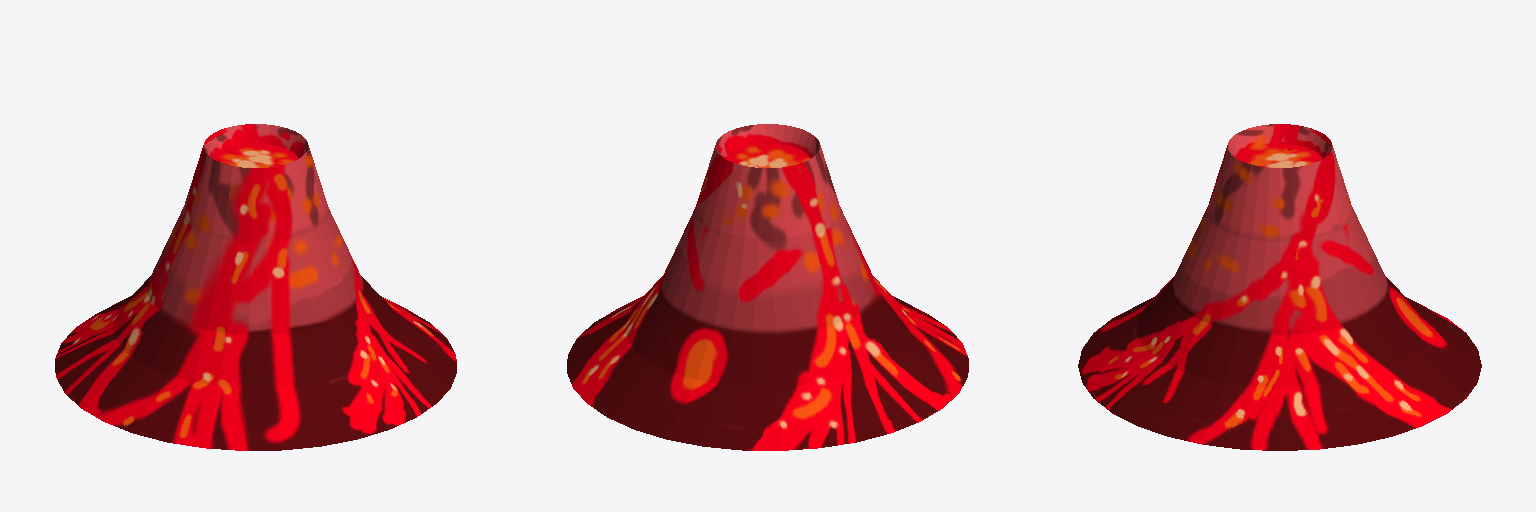
The picture shows the model from 3 angles: view 1: azimuth 30°, elevation 25°; view 2: azimuth 150°, elevation 25°; view 3: azimuth 270°, elevation 25°; orthographic projection.
Parts seen in each view (by area): view 1: volcano; view 2: volcano; view 3: volcano.
Boxes of the visible parts, box(x1,y1,x2,y2) form: volcano: box(55, 124, 456, 450); volcano: box(567, 124, 968, 450); volcano: box(1078, 124, 1481, 450).
Bounding box in the file's own units: 2.22 × 1.33 × 2.22.
1 materials, 1 textured.